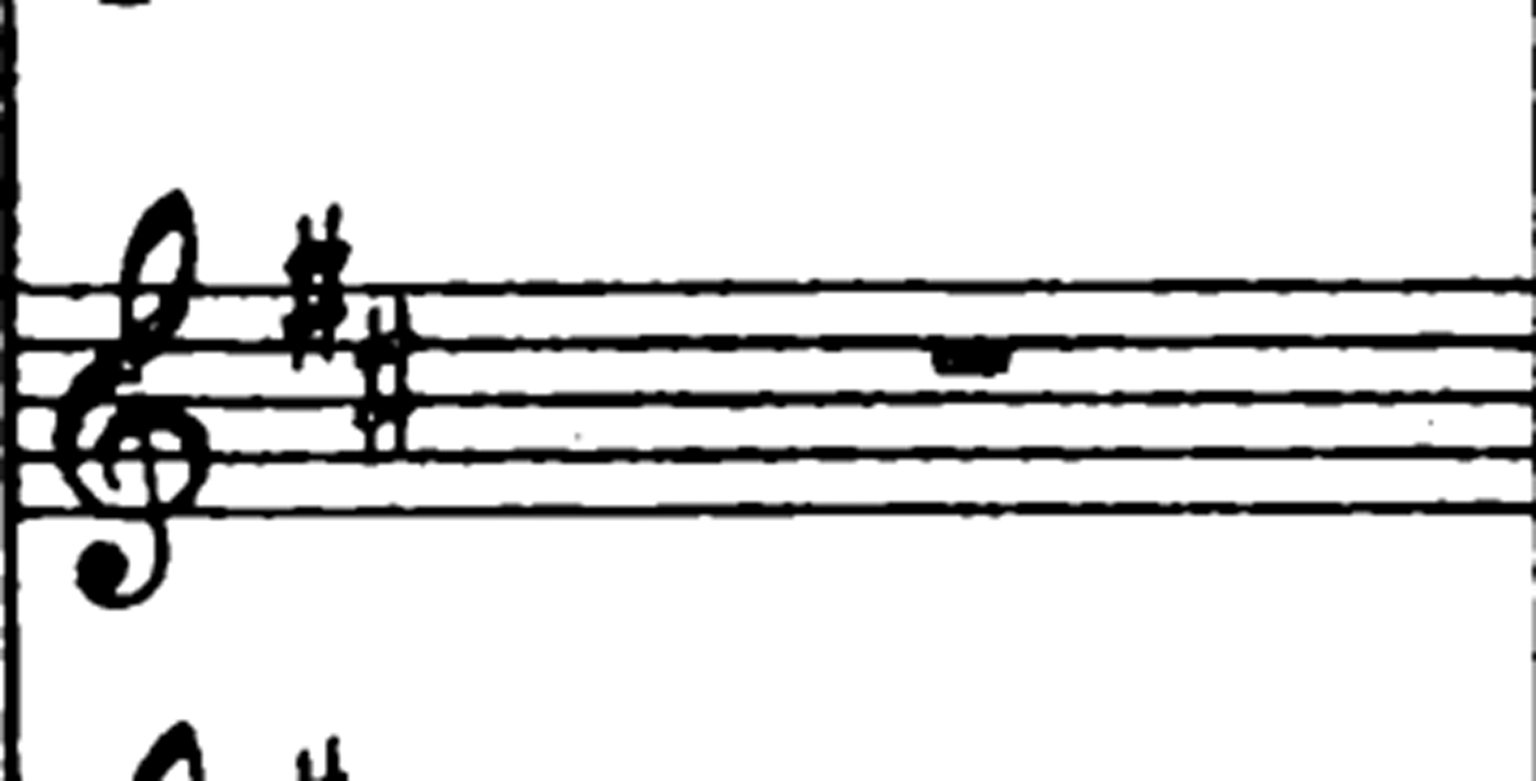clefG: (29, 149, 243, 632)
fermataAbove: (133, 723, 204, 781)
